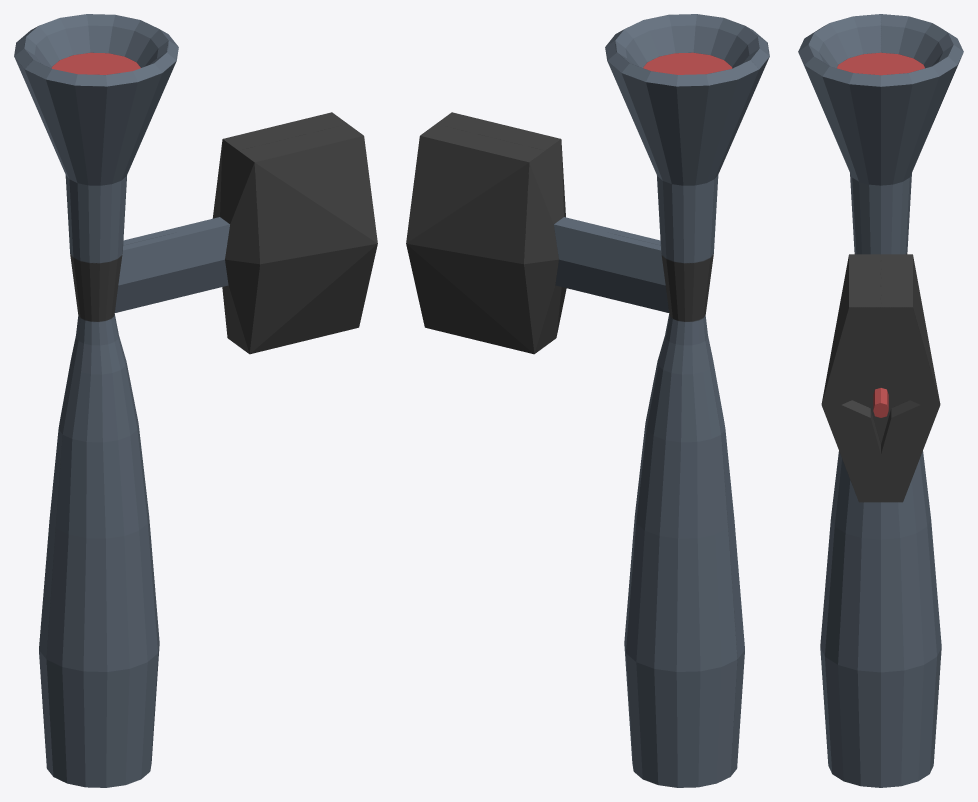
File: Laser.fbx
3 views of the same model, side by side, from view 1: azimuth 30°, elevation 25°; view 2: azimuth 150°, elevation 25°; view 3: azimuth 270°, elevation 25° (orthographic).
Parts seen in each view (by area): view 1: Laser; view 2: Laser; view 3: Laser.
Boxes of the visible parts, x1,y1,x2,y2 form: Laser: [14, 14, 377, 787]; Laser: [406, 14, 769, 787]; Laser: [798, 14, 963, 787].
Size of the model in its own units: 42.73 by 87.95 by 18.36.
